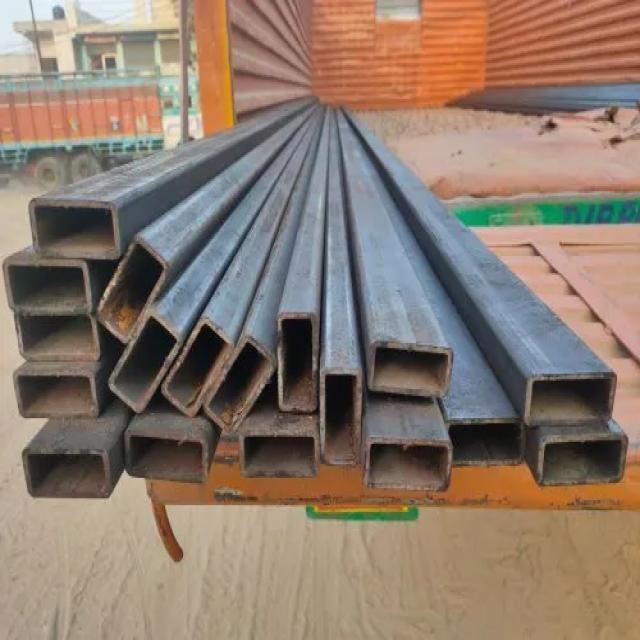pipe: (99, 243, 163, 338), (208, 344, 272, 433), (165, 323, 228, 413), (113, 318, 175, 409), (528, 373, 620, 420), (32, 203, 117, 253), (5, 261, 90, 310), (127, 433, 208, 483), (373, 342, 448, 395), (26, 451, 109, 497), (543, 437, 625, 483), (367, 446, 453, 489), (15, 373, 96, 414), (322, 373, 360, 460), (18, 317, 99, 357), (280, 314, 315, 406), (243, 434, 317, 473), (452, 424, 523, 461)
